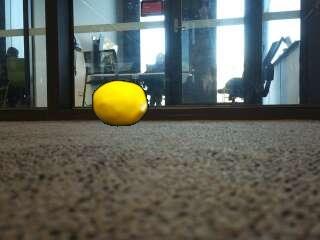lemon: (95, 81, 148, 125)
